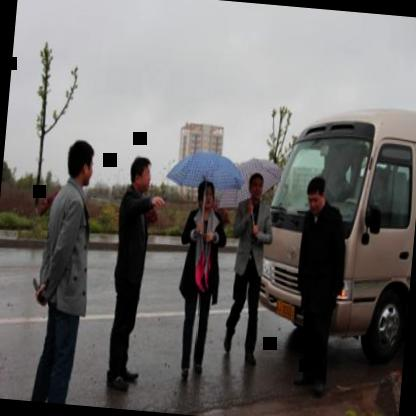head: (64, 136, 98, 192), (126, 150, 156, 198), (303, 174, 330, 214), (194, 176, 217, 218), (245, 172, 266, 202)
